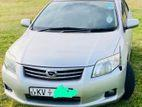car: (3, 0, 138, 107)
